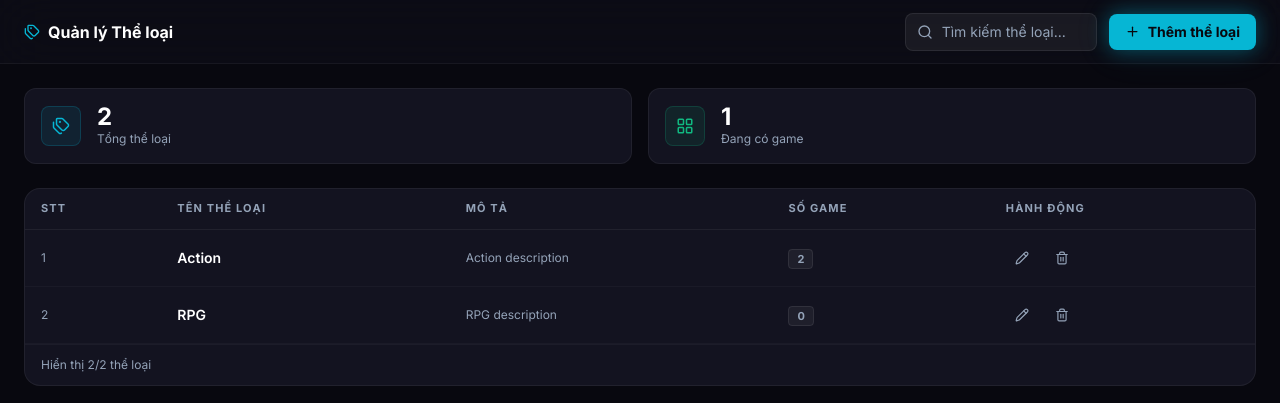
Test: CategoryManagement Component › TC9: filters categories by search term
Type "Action" into the field with placeholder "Tìm kiếm thể loại...". click: [1001, 32]
box: [905,12,1097,50]
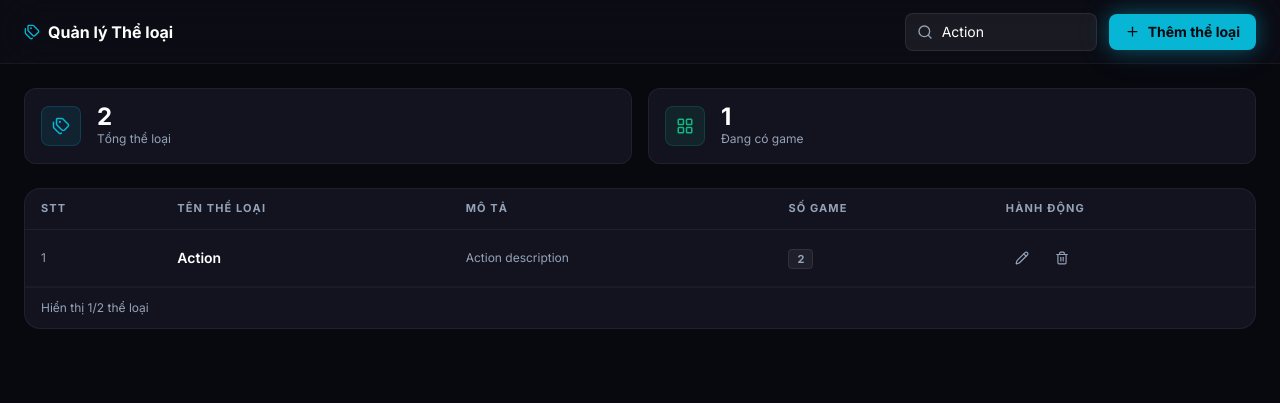
Expected: the text "Action" is shown, [161,229,450,286]
Expected: the text "RPG" is gone
